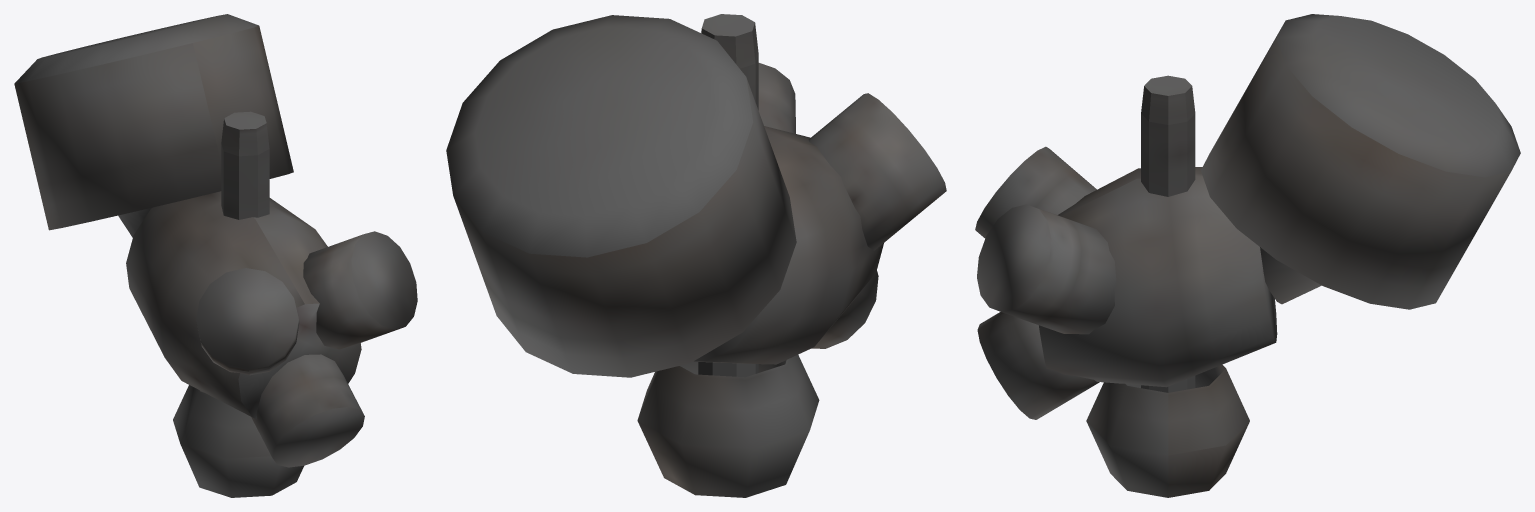
3 renders of one model, left to right at view 1: azimuth 30°, elevation 25°; view 2: azimuth 150°, elevation 25°; view 3: azimuth 270°, elevation 25°, orthographic. The views are drawn at different scales.
Visible parts, largest first — view 1: Cube.025, Sphere, Sphere.001; view 2: Cube.025, Sphere, Sphere.001; view 3: Cube.025, Sphere, Sphere.001.
Part boxes in pixels (left/top/right/bottom): Cube.025: left=14, top=14, right=417, bottom=467; Sphere: left=173, top=385, right=303, bottom=497; Sphere.001: left=221, top=111, right=269, bottom=219; Cube.025: left=446, top=15, right=946, bottom=377; Sphere: left=637, top=355, right=819, bottom=497; Sphere.001: left=698, top=14, right=758, bottom=377; Cube.025: left=975, top=14, right=1520, bottom=419; Sphere: left=1086, top=364, right=1249, bottom=497; Sphere.001: left=1141, top=75, right=1195, bottom=392.
Bounding box in the file's own units: 1.02 × 1.86 × 2.
